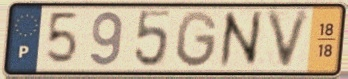5: (132, 7, 173, 71), (44, 10, 80, 69)
9: (88, 9, 125, 70)
G: (175, 9, 220, 71)
N: (217, 8, 263, 71)
V: (263, 7, 315, 74)
